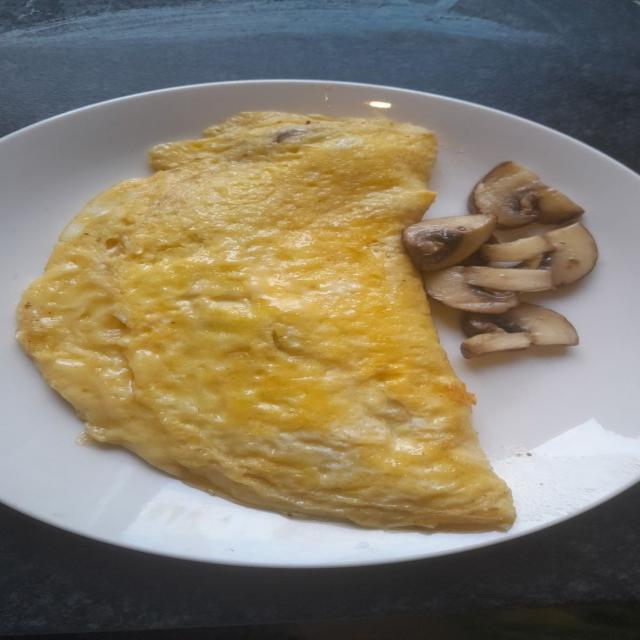omelette: (19, 113, 513, 527)
